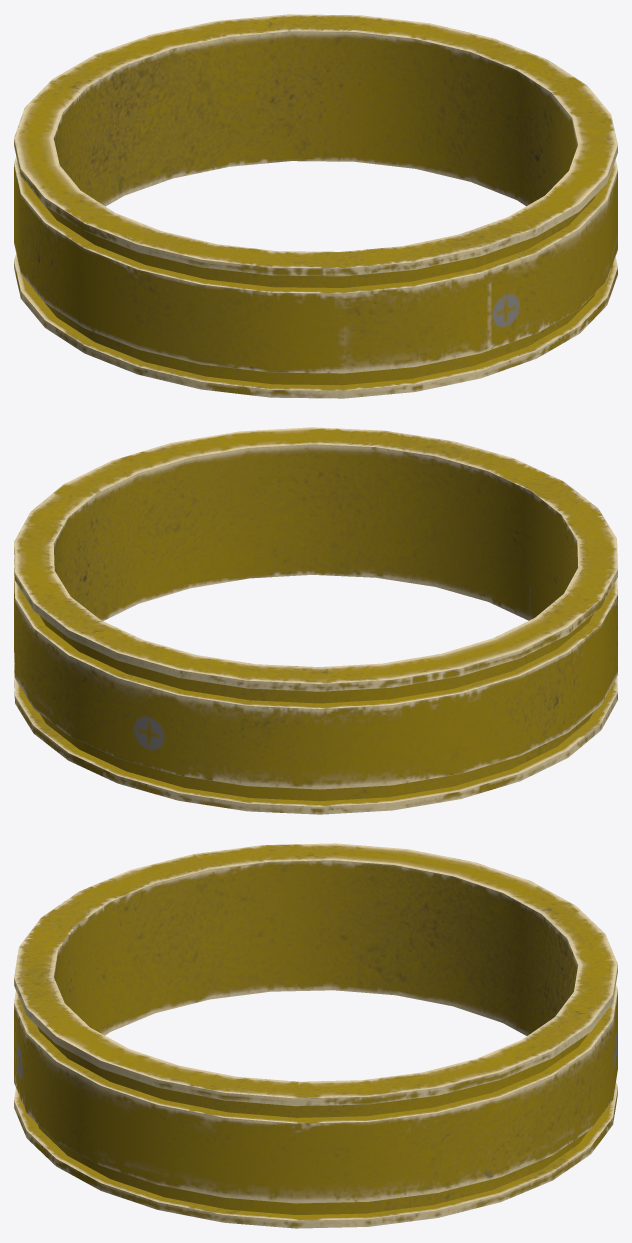
Rendered from anillo.obj.
The picture shows the model from 3 angles, top to bottom: view 1: azimuth 30°, elevation 25°; view 2: azimuth 150°, elevation 25°; view 3: azimuth 270°, elevation 25°; orthographic projection.
Parts seen in each view (by area): view 1: SM_Bin_ring; view 2: SM_Bin_ring; view 3: SM_Bin_ring.
Part boxes in pixels (<box>): SM_Bin_ring: <box>14,14,617,398</box>; SM_Bin_ring: <box>14,427,617,814</box>; SM_Bin_ring: <box>14,843,617,1228</box>.
Bounding box in the file's own units: 0.2406 × 0.0572 × 0.2408.
Materials: 1 (1 with a texture image).
